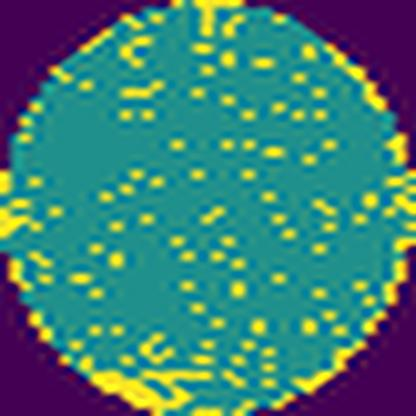Edge-Loc: (94, 363, 214, 415), (191, 0, 246, 36), (0, 202, 33, 239)
